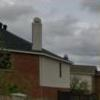Chimney: (23, 13, 53, 54)
